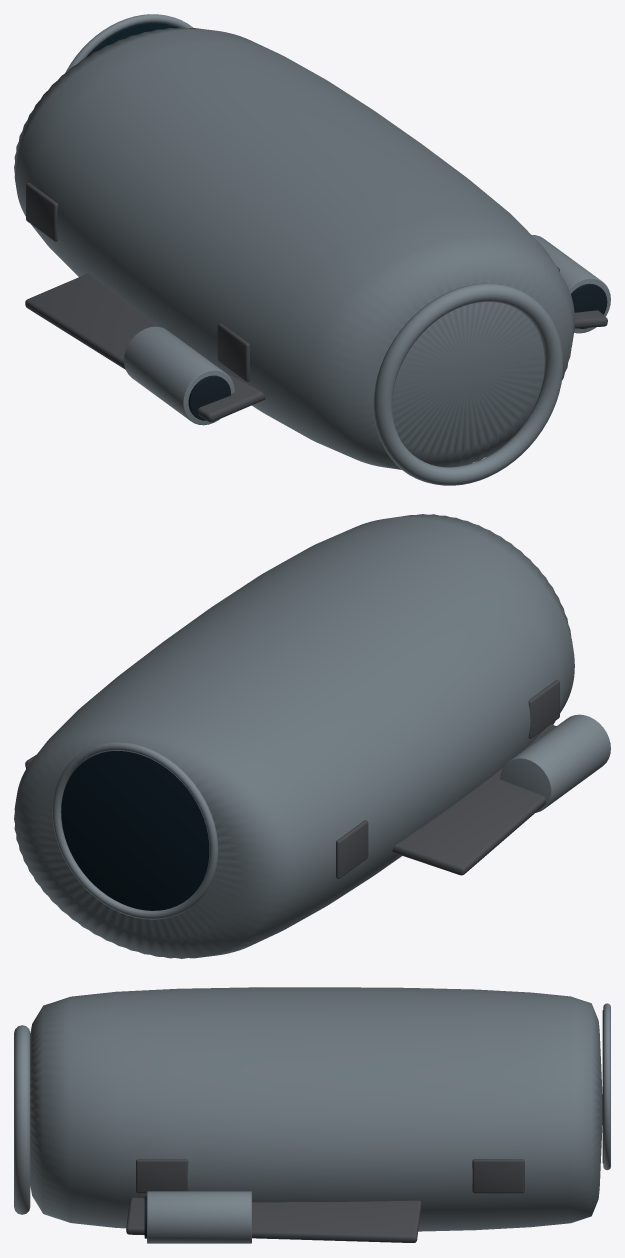
The model's file is rescue-craft.glb.
3 renders of one model, top to bottom at view 1: azimuth 30°, elevation 25°; view 2: azimuth 150°, elevation 25°; view 3: azimuth 270°, elevation 25°, orthographic. The views are drawn at different scales.
Visible parts, largest first — view 1: ContinuousRescueHull, ShuttleRearDock, Wing-1, Thruster-1, Thruster1, HullSmallPanel-1-2.3, HullSmallPanel-12.2, ShuttleWindowFrame, ThrusterNozzle-1, ThrusterNozzle1, ShuttleFrontGlass; view 2: ContinuousRescueHull, ShuttleFrontGlass, Wing-1, Thruster-1, ShuttleWindowFrame, HullSmallPanel-12.2, HullSmallPanel-1-2.3; view 3: ContinuousRescueHull, Wing1, Thruster1, ShuttleRearDock, HullSmallPanel12.2, HullSmallPanel1-2.3, ShuttleWindowFrame.
Boxes of the visible parts, box(x1,y1,x2,y2) form: ContinuousRescueHull: box(14, 27, 574, 469); ShuttleRearDock: box(373, 283, 563, 485); Wing-1: box(25, 273, 265, 422); Thruster-1: box(124, 326, 234, 425); Thruster1: box(532, 235, 610, 333); HullSmallPanel-1-2.3: box(217, 323, 249, 381); HullSmallPanel-12.2: box(26, 182, 57, 241); ShuttleWindowFrame: box(65, 14, 193, 72); ThrusterNozzle-1: box(188, 375, 230, 420); ThrusterNozzle1: box(571, 283, 607, 328); ShuttleFrontGlass: box(86, 22, 178, 57); ContinuousRescueHull: box(14, 514, 574, 958); ShuttleFrontGlass: box(61, 751, 209, 910); Wing-1: box(392, 724, 556, 875); Thruster-1: box(500, 714, 610, 812); ShuttleWindowFrame: box(52, 742, 218, 919); HullSmallPanel-12.2: box(336, 820, 368, 878); HullSmallPanel-1-2.3: box(528, 680, 559, 738); ContinuousRescueHull: box(30, 987, 602, 1231); Wing1: box(126, 1197, 421, 1242); Thruster1: box(147, 1191, 251, 1243); ShuttleRearDock: box(14, 1025, 30, 1214); HullSmallPanel12.2: box(472, 1159, 524, 1193); HullSmallPanel1-2.3: box(136, 1159, 188, 1193); ShuttleWindowFrame: box(603, 1003, 610, 1170).
Bounding box in the file's own units: 5.96 × 2.99 × 7.98.
